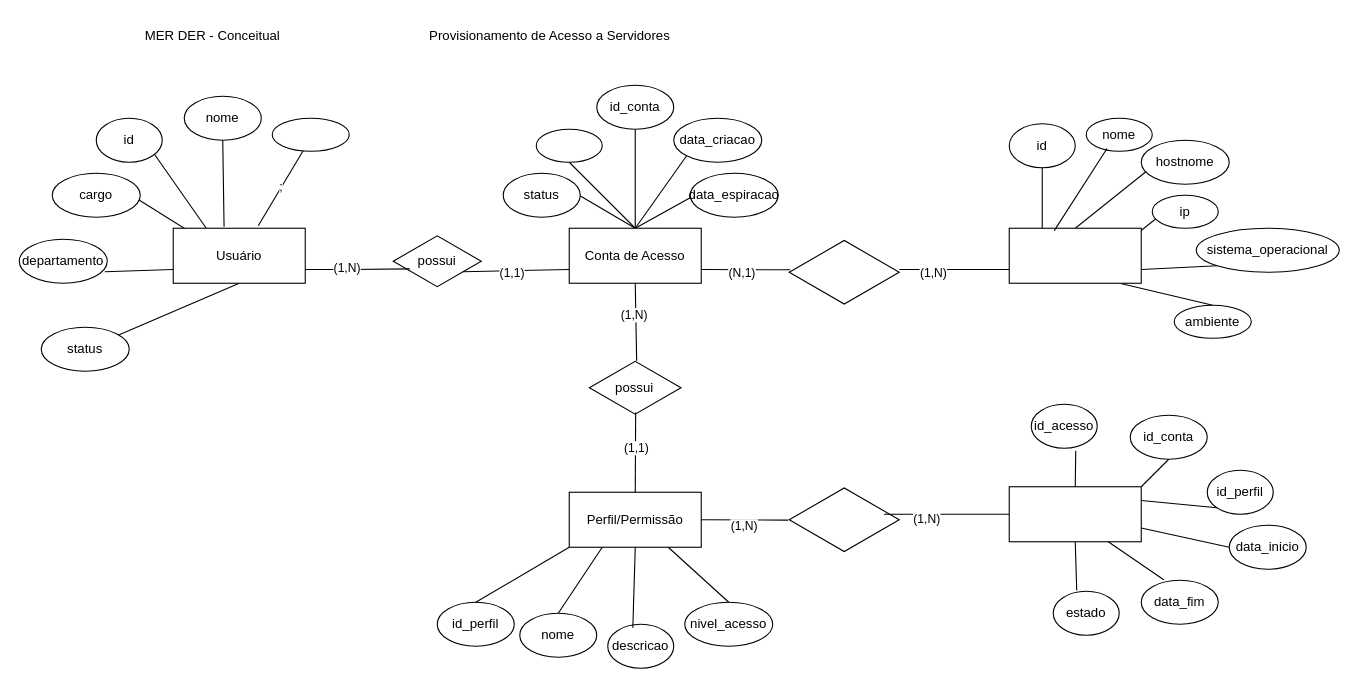
Image size: 1359x688. Some labels were removed from this diagram. Each missing label, with the centre of its shape:
"Acesso" belongs at [1074,514].
"email" belongs at [310,134].
"login" belongs at [568,145].
"Servidor" belongs at [1074,255].
"é atribuido a" belongs at [843,519].
"é consedida em" belongs at [843,271].
